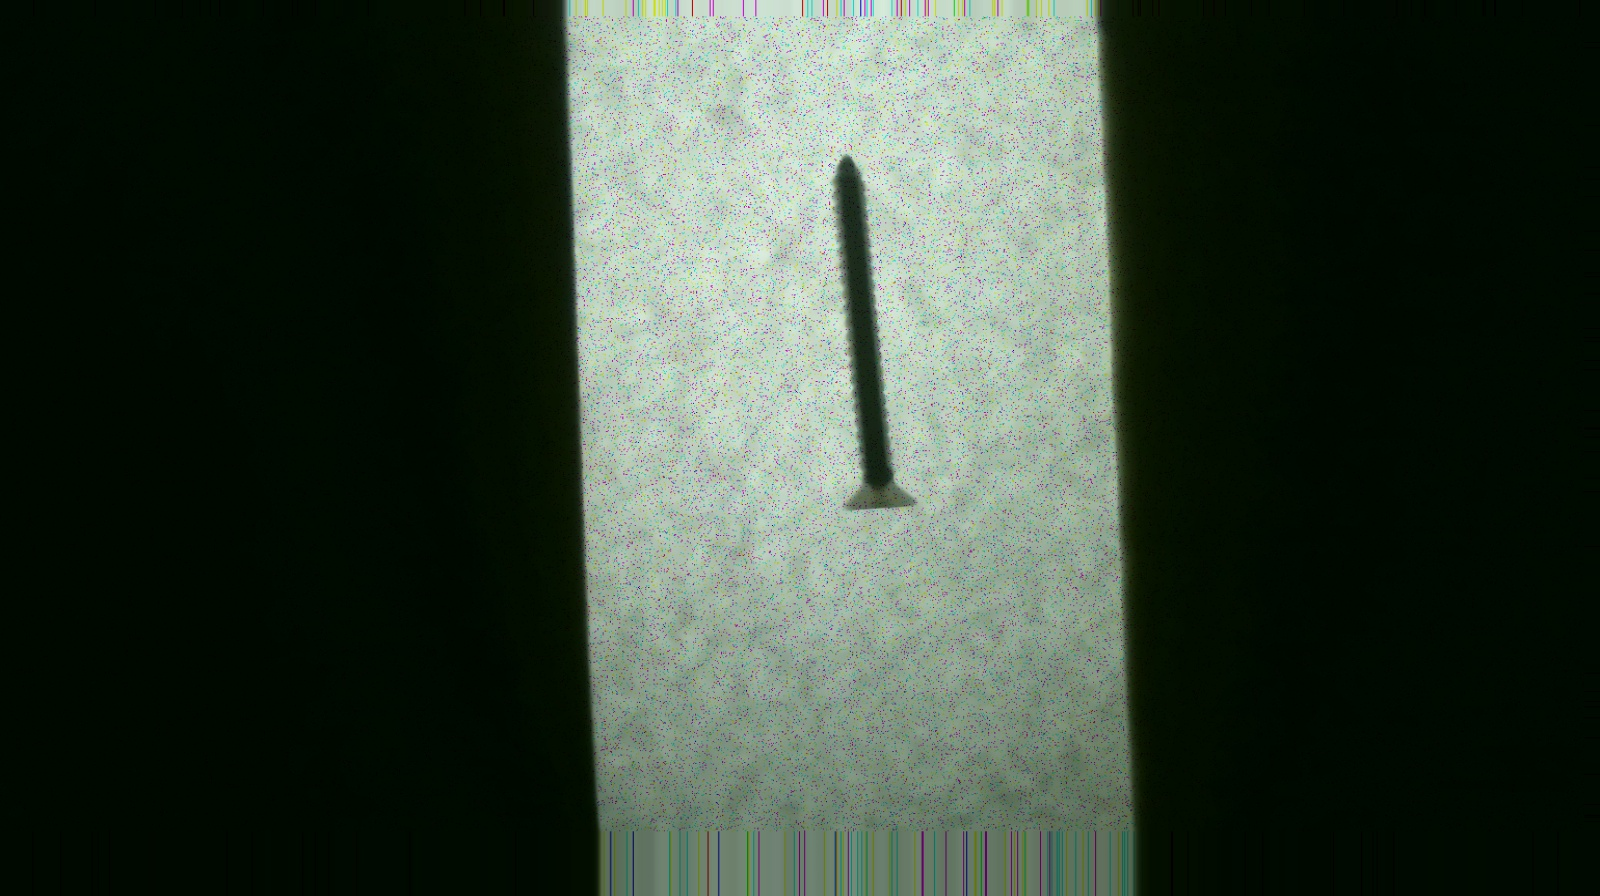S002: (778, 143, 968, 524)
